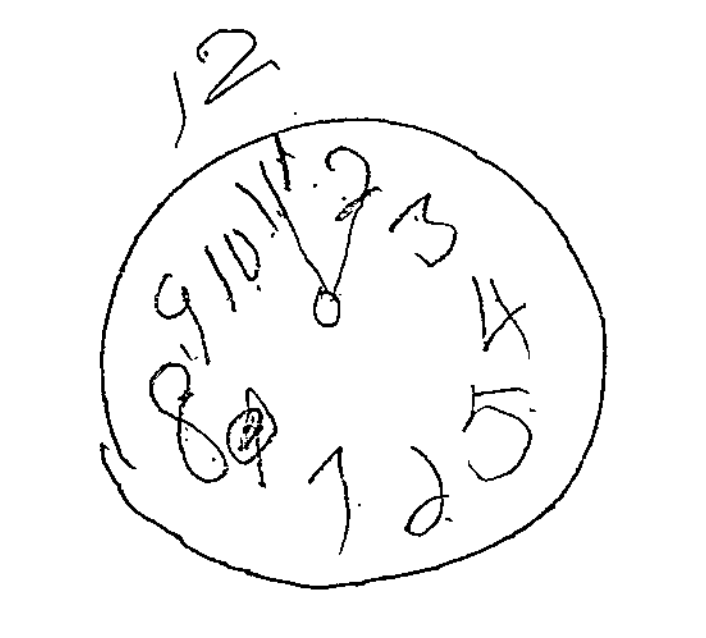10: (200, 226, 267, 314)
11: (234, 157, 290, 240)
12: (168, 22, 283, 148)
3: (388, 193, 460, 268)
4: (470, 274, 534, 361)
5: (458, 381, 531, 484)
7: (306, 439, 356, 555)
8: (148, 356, 229, 486)
9: (147, 271, 212, 368)
contour: (93, 111, 612, 593)
